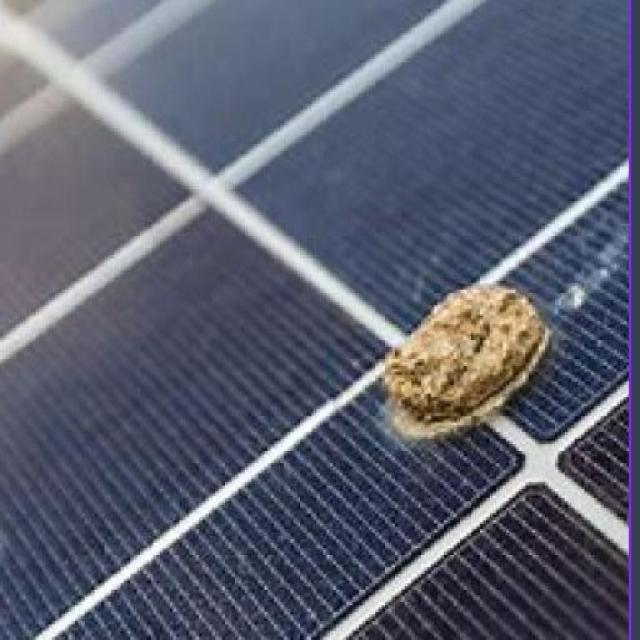faulty: (14, 27, 634, 624)
